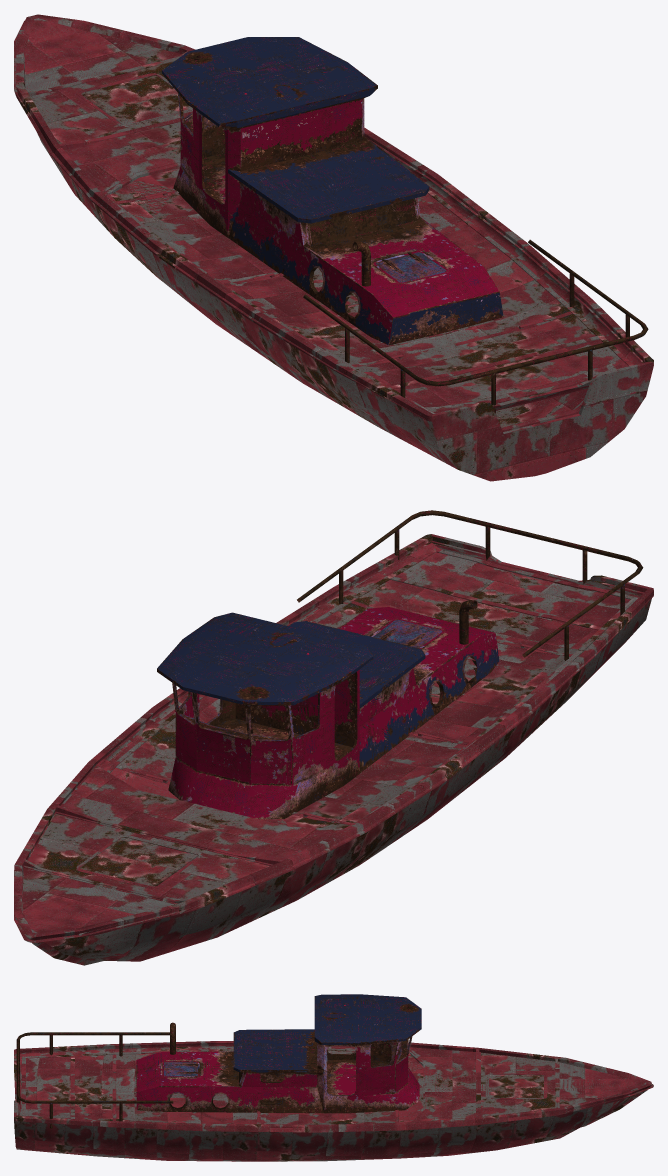
The model's file is ship.fbx.
3 renders of one model, top to bottom at view 1: azimuth 30°, elevation 25°; view 2: azimuth 150°, elevation 25°; view 3: azimuth 270°, elevation 25°, orthographic. The views are drawn at different scales.
Parts seen in each view (by area): view 1: Group1; view 2: Group1; view 3: Group1.
Part boxes in pixels (left/top/right/bottom): Group1: left=14, top=14, right=653, bottom=481; Group1: left=14, top=510, right=653, bottom=965; Group1: left=14, top=994, right=653, bottom=1161.
Size of the model in its own units: 6778 by 4907 by 20720.
